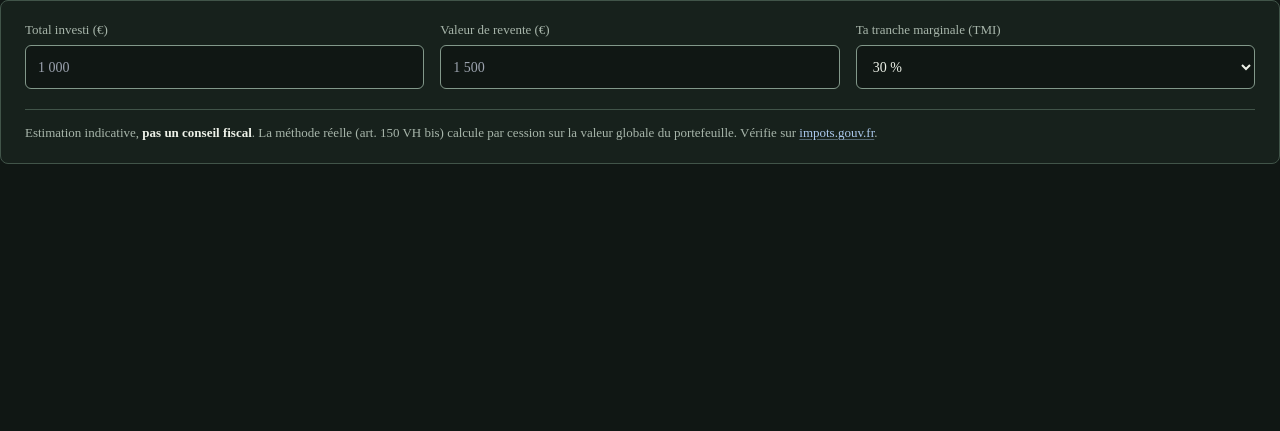
Test: CryptoTaxCalculator › flags an exemption when sale <= 305 €
Type "100" into the field labelled "Total investi (€)".
click(225, 67); type("100")  # box [25,45,424,89]
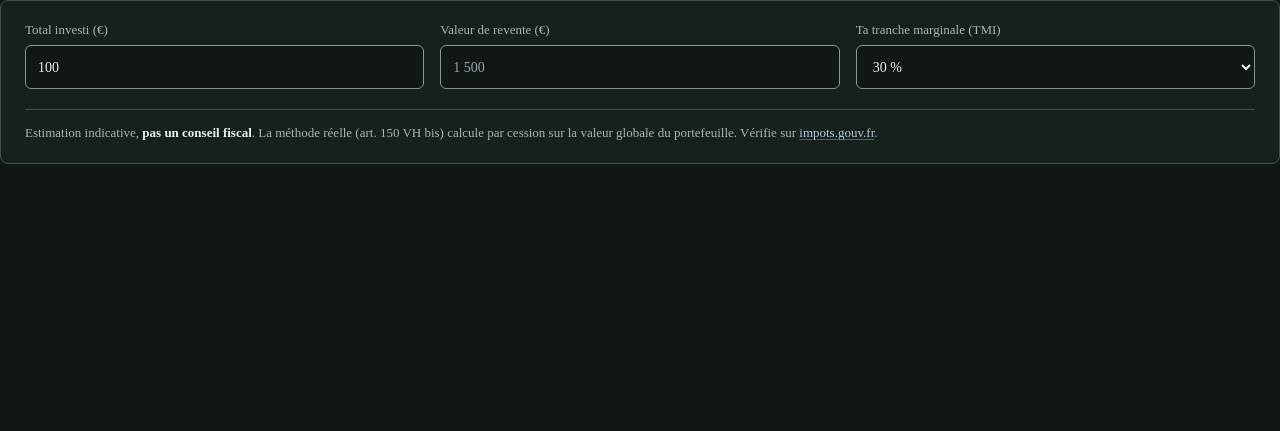
Type "300" into the field labelled "Valeur de revente (€)".
click(640, 67); type("300")  # box [440,45,840,89]
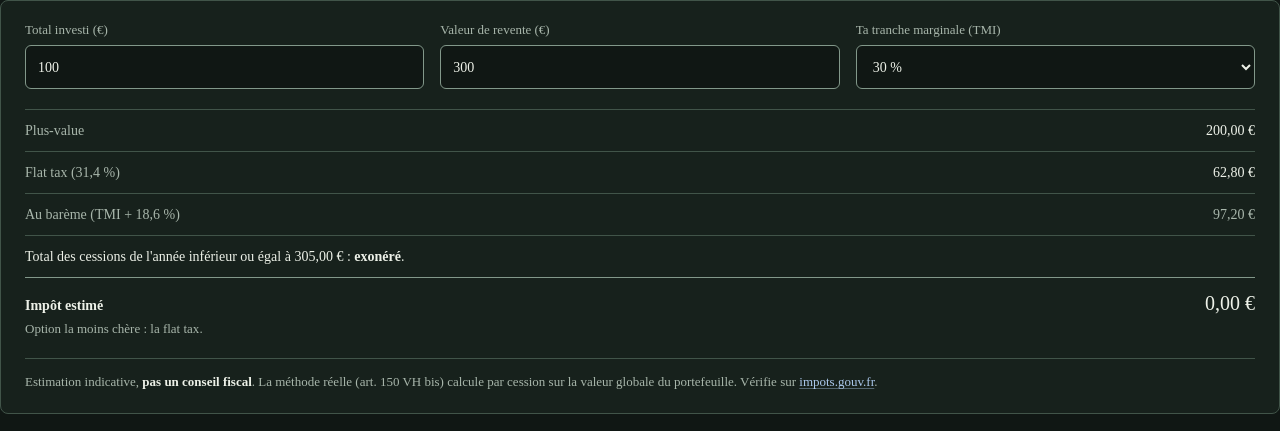
Result: the text with test id "tax-due" shows "0" at [1205,292,1255,314]
Result: the text "exonéré" is shown at [354,249,401,264]
